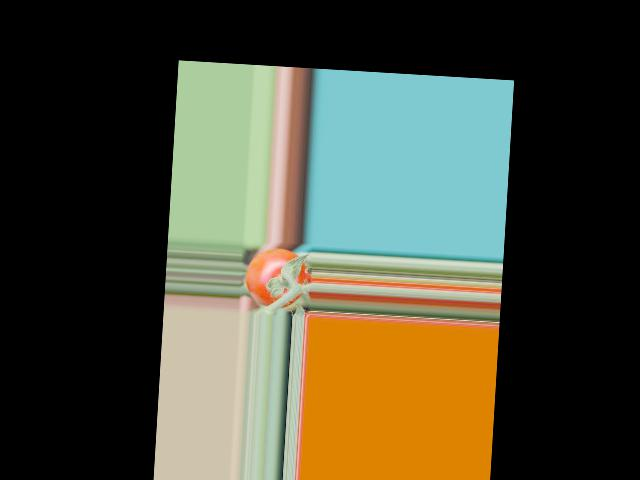tomato: (244, 246, 312, 310)
